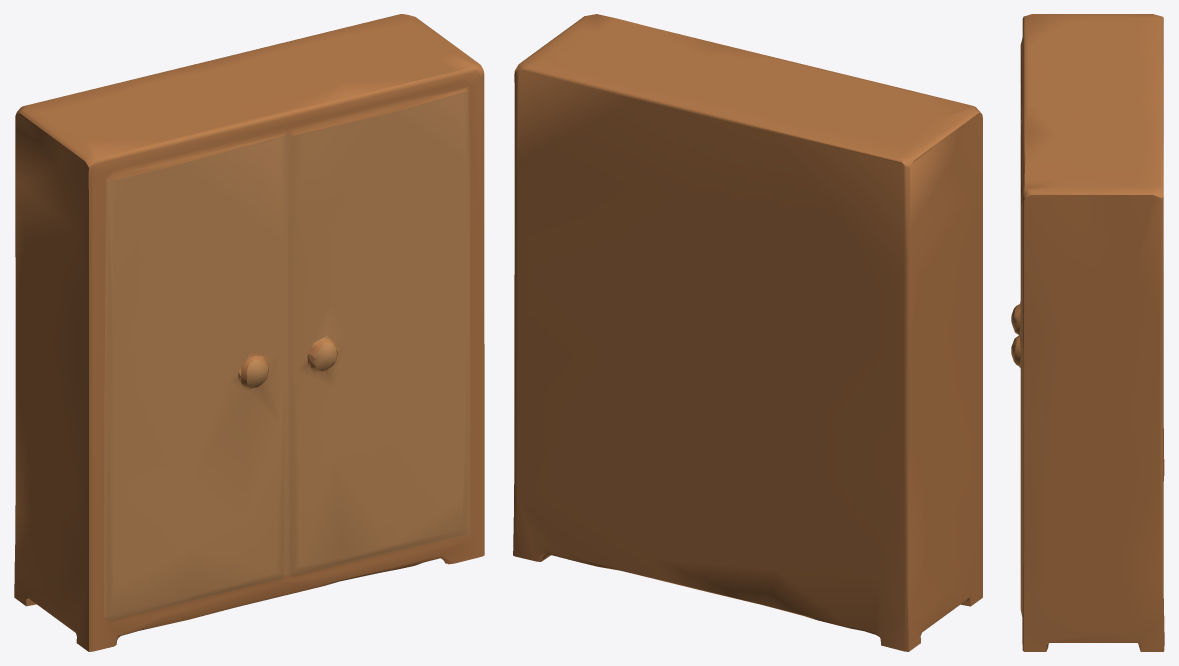
File: wardrobe.glb
3 renders of one model, left to right at view 1: azimuth 30°, elevation 25°; view 2: azimuth 150°, elevation 25°; view 3: azimuth 270°, elevation 25°, orthographic. The views are drawn at different scales.
Visible parts, largest first — view 1: wardrobe_door, wardrobe_wood; view 2: wardrobe_wood; view 3: wardrobe_wood, wardrobe_door.
Boxes of the visible parts, x1,y1,x2,y2 form: wardrobe_door: [104, 90, 470, 620]; wardrobe_wood: [14, 14, 484, 651]; wardrobe_wood: [513, 14, 982, 651]; wardrobe_wood: [1014, 14, 1164, 651]; wardrobe_door: [1011, 83, 1022, 619].
Size of the model in its own units: 1.9 by 2.25 by 0.6801.
